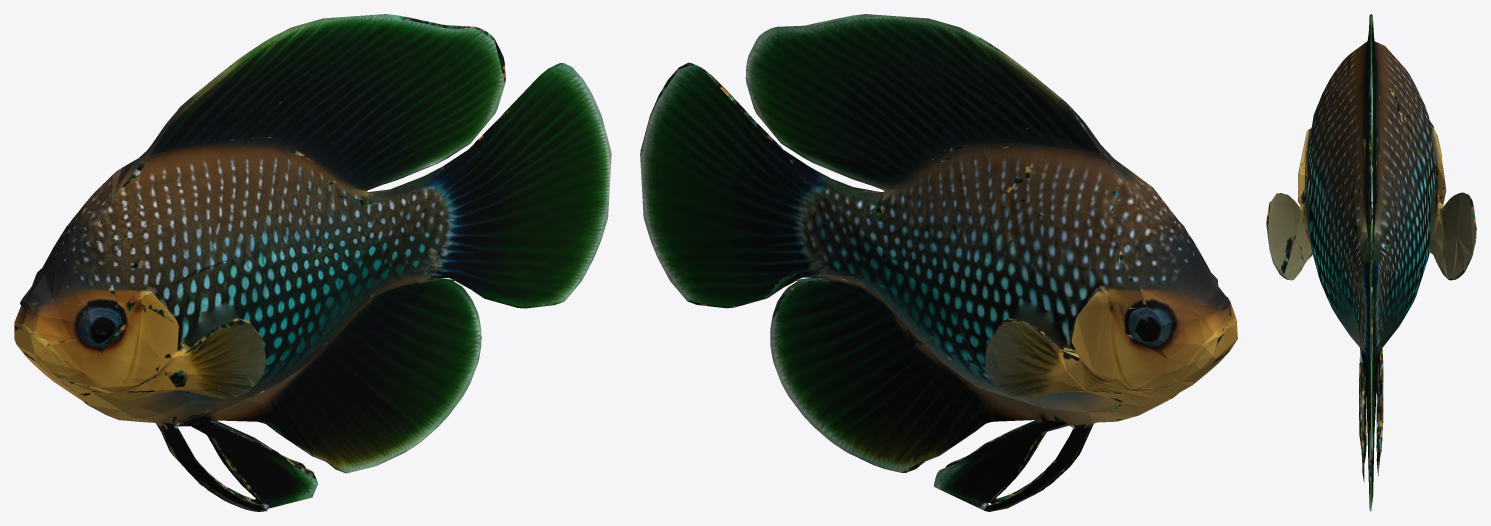
The model's file is fish_0029_smpl23_resized.glb.
The picture shows the model from 3 angles, left to right: view 1: azimuth 30°, elevation 25°; view 2: azimuth 150°, elevation 25°; view 3: azimuth 270°, elevation 25°; orthographic projection. The views are drawn at different scales.
Visible parts, largest first — view 1: world; view 2: world; view 3: world.
Boxes of the visible parts, x1,y1,x2,y2 form: world: (14, 14, 611, 511); world: (640, 14, 1237, 511); world: (1266, 14, 1476, 511).
Size of the model in its own units: 1.98 by 1.52 by 0.6312.
Materials: 1 (1 with a texture image).
